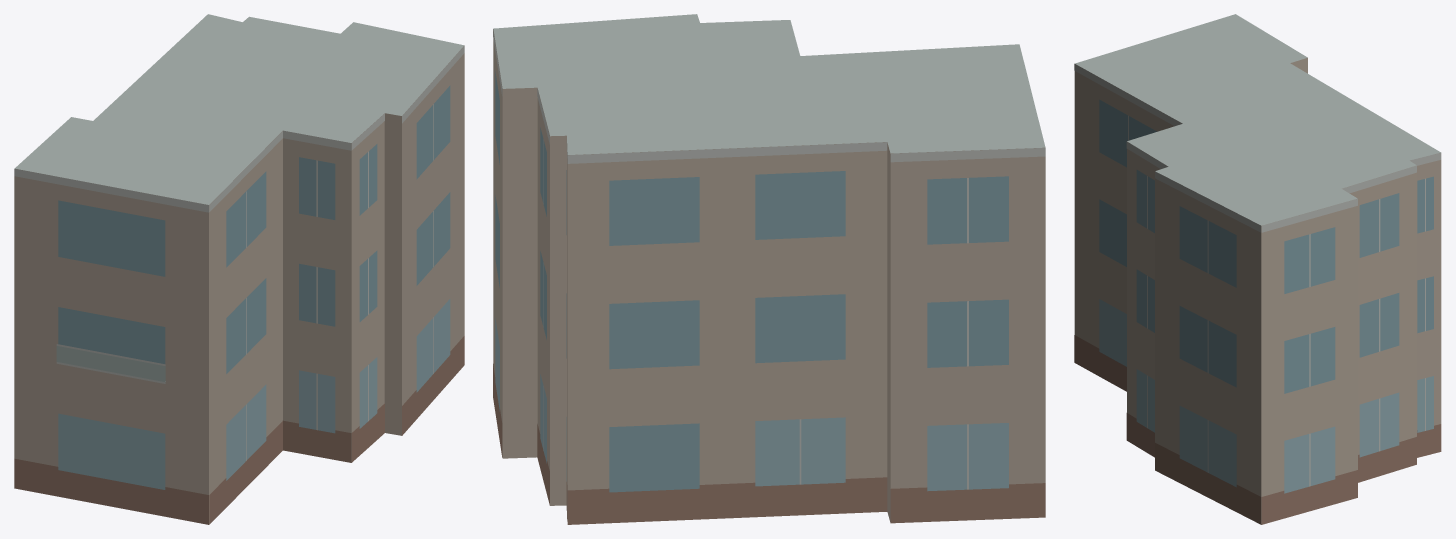
The model's file is survey-upis-32512386.glb.
3 renders of one model, left to right at view 1: azimuth 30°, elevation 25°; view 2: azimuth 150°, elevation 25°; view 3: azimuth 270°, elevation 25°, orthographic. The views are drawn at different scales.
Parts seen in each view (by area): view 1: survey-upis-32512386.tmp; view 2: survey-upis-32512386.tmp; view 3: survey-upis-32512386.tmp.
Boxes of the visible parts, box(x1,y1,x2,y2) form: survey-upis-32512386.tmp: box(14, 14, 464, 524); survey-upis-32512386.tmp: box(493, 14, 1045, 524); survey-upis-32512386.tmp: box(1074, 14, 1441, 524).
Bounding box in the file's own units: 15.49 × 10.2 × 11.34.
